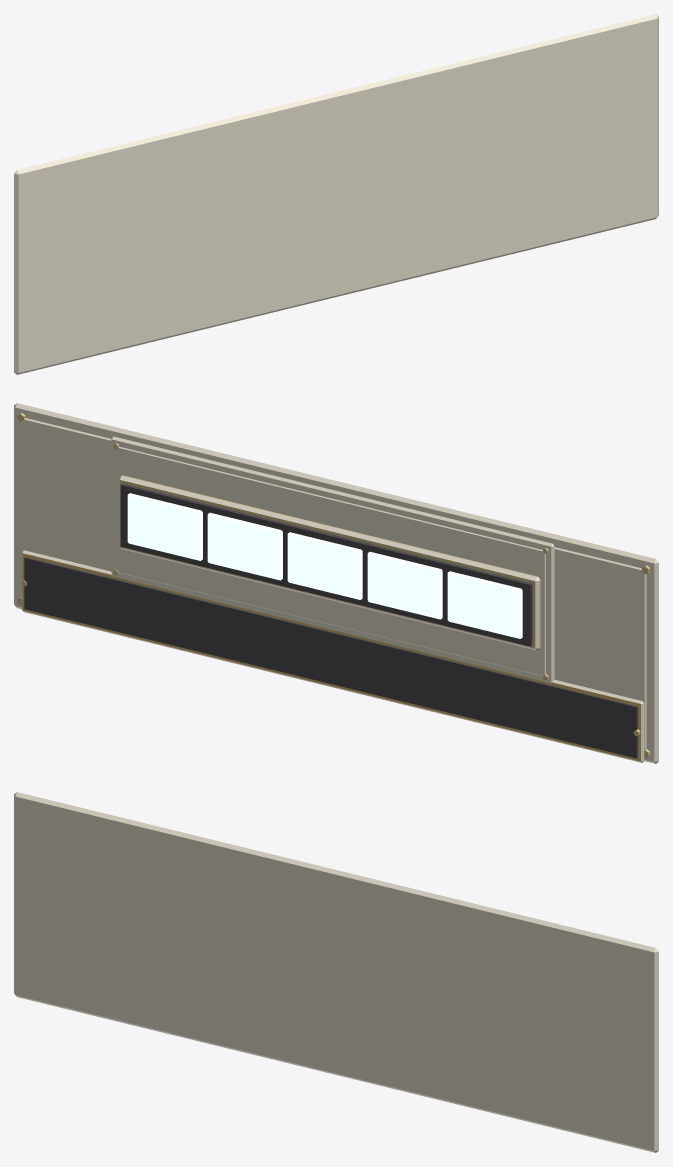
The model's file is Disp_Bar_3x1.fbx.
3 renders of one model, top to bottom at view 1: azimuth 30°, elevation 25°; view 2: azimuth 150°, elevation 25°; view 3: azimuth 330°, elevation 25°, orthographic.
Visible parts, largest first — view 1: Disp_Bar_3x1; view 2: Disp_Bar_3x1, Seg3.005, Seg4.005, Seg0.005, Seg1.005, Seg2.005; view 3: Disp_Bar_3x1.
Boxes of the visible parts, <box> form: Disp_Bar_3x1: <box>14,14,658,374</box>; Disp_Bar_3x1: <box>14,403,658,763</box>; Seg3.005: <box>367,551,442,619</box>; Seg4.005: <box>447,571,522,638</box>; Seg0.005: <box>127,493,202,560</box>; Seg1.005: <box>207,512,282,580</box>; Seg2.005: <box>287,532,362,599</box>; Disp_Bar_3x1: <box>14,792,658,1152</box>.
Size of the model in its own units: 3.16 by 0.96 by 0.1209.
